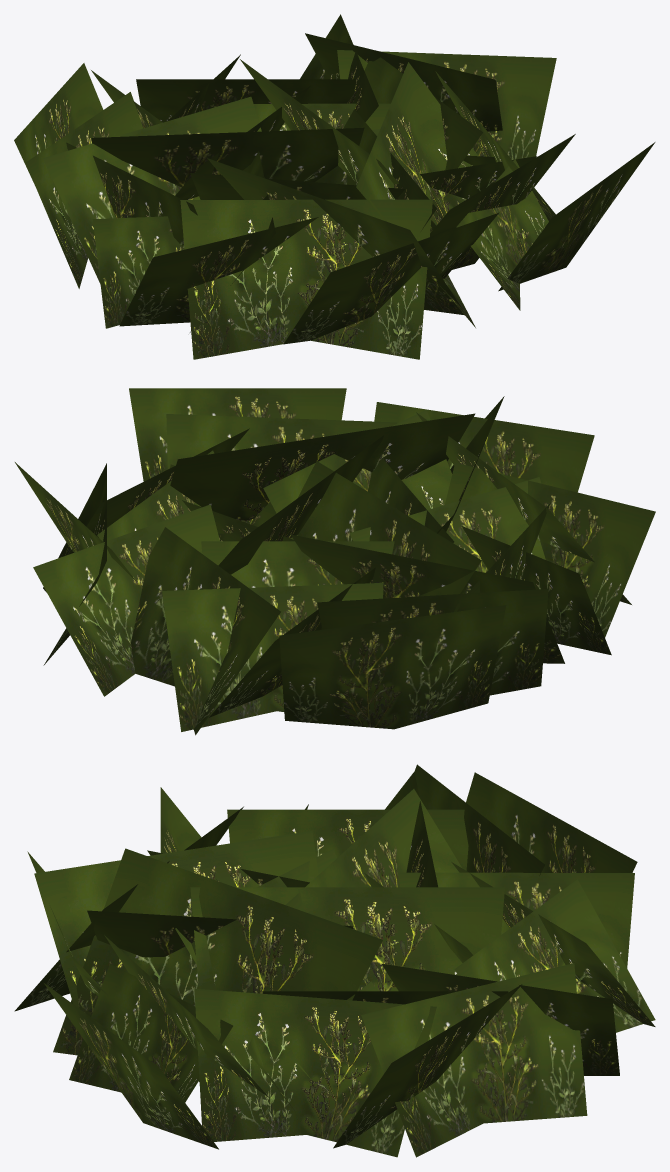
File: grass004.glb
3 renders of one model, top to bottom at view 1: azimuth 30°, elevation 25°; view 2: azimuth 150°, elevation 25°; view 3: azimuth 270°, elevation 25°, orthographic. The views are drawn at different scales.
Visible parts, largest first — view 1: grass004; view 2: grass004; view 3: grass004.
Boxes of the visible parts, x1,y1,x2,y2 form: grass004: (14,14,655,359); grass004: (15,388,655,735); grass004: (14,764,655,1157).
Bounding box in the file's own units: 5.45 × 1.4 × 5.21.
1 material, 1 textured.
